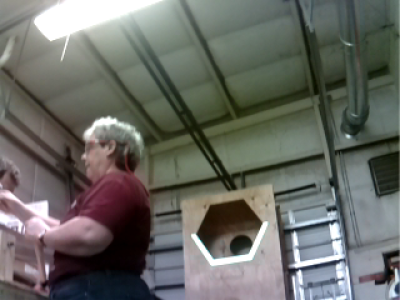target: (190, 221, 270, 266)
